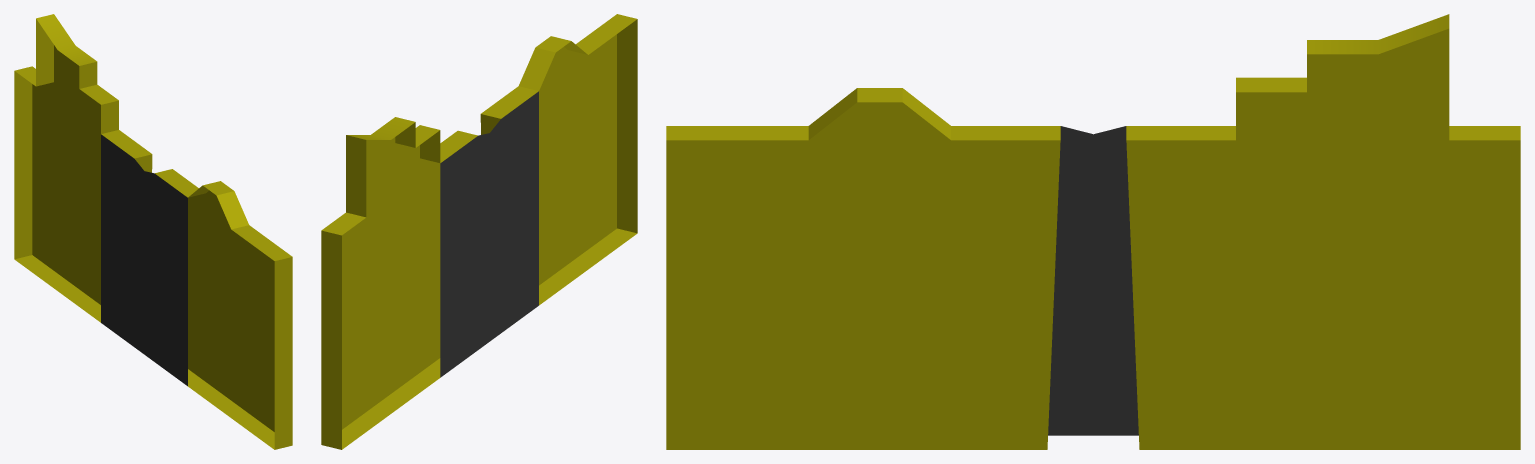
The model's file is plateau_right.fbx.
3 renders of one model, left to right at view 1: azimuth 30°, elevation 25°; view 2: azimuth 150°, elevation 25°; view 3: azimuth 270°, elevation 25°, orthographic. The views are drawn at different scales.
Parts seen in each view (by area): view 1: plateau_right, plateau_right1; view 2: plateau_right, plateau_right1; view 3: plateau_right, plateau_right1.
Part boxes in pixels (x1,y1,x2,y2): plateau_right: [14, 14, 292, 449]; plateau_right1: [101, 134, 187, 386]; plateau_right: [321, 14, 637, 449]; plateau_right1: [440, 91, 538, 377]; plateau_right: [666, 14, 1520, 449]; plateau_right1: [1048, 126, 1138, 435].
Size of the model in its own units: 1 by 13.61 by 25.
